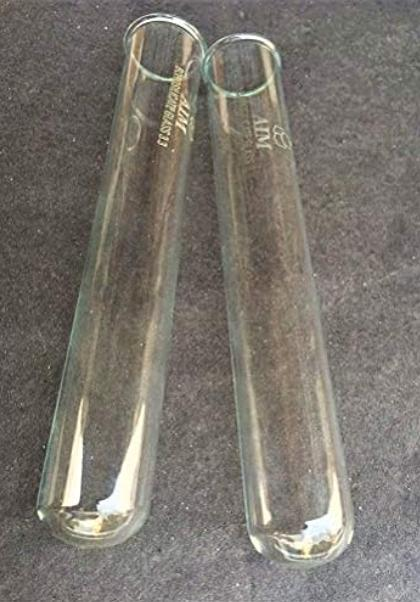Test tube: (31, 19, 356, 564)
